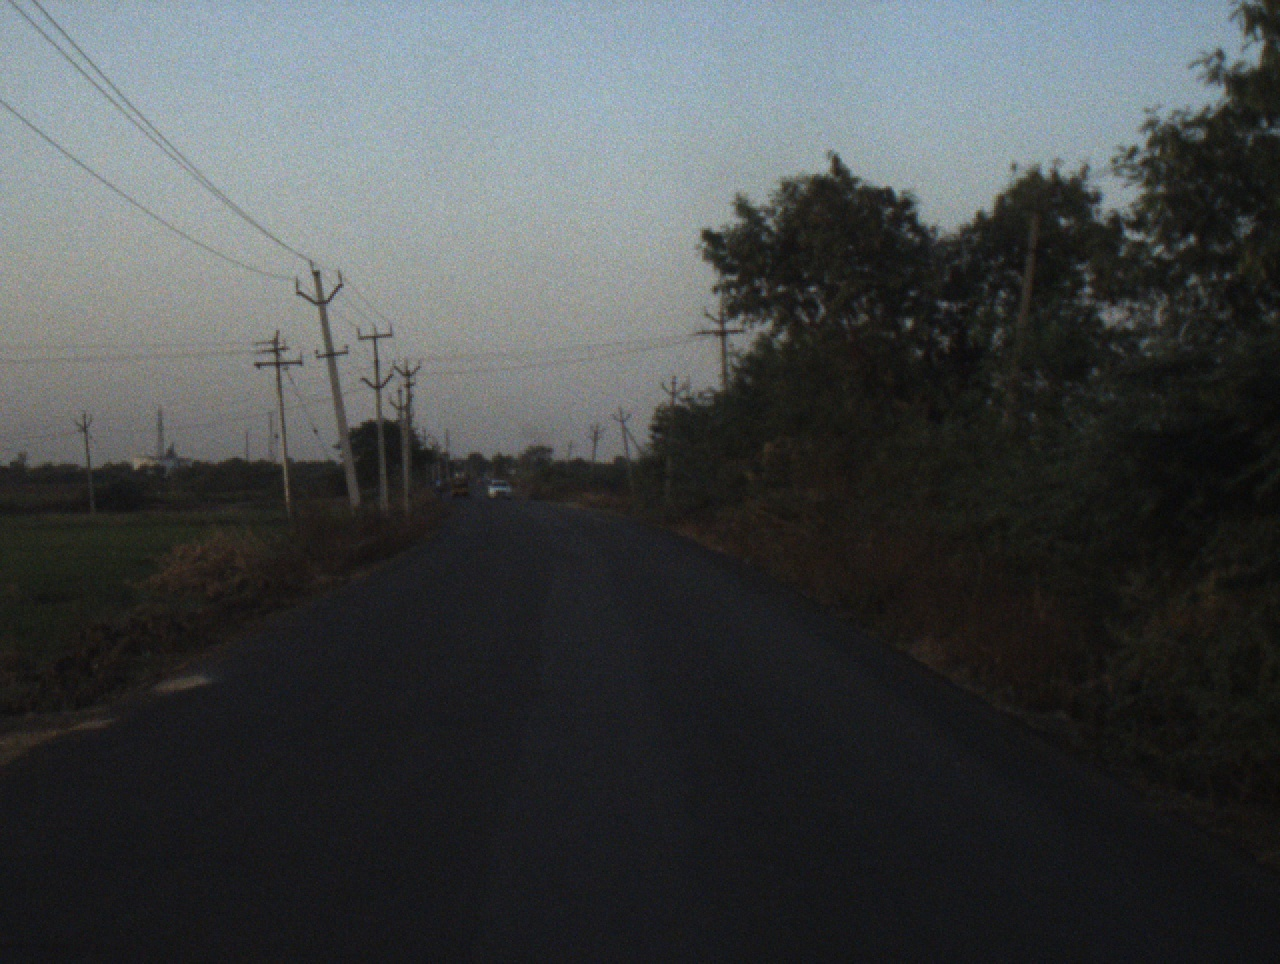autorickshaw: (448, 470, 471, 498)
car: (485, 479, 517, 504)
vehicle fallback: (435, 475, 445, 495)
